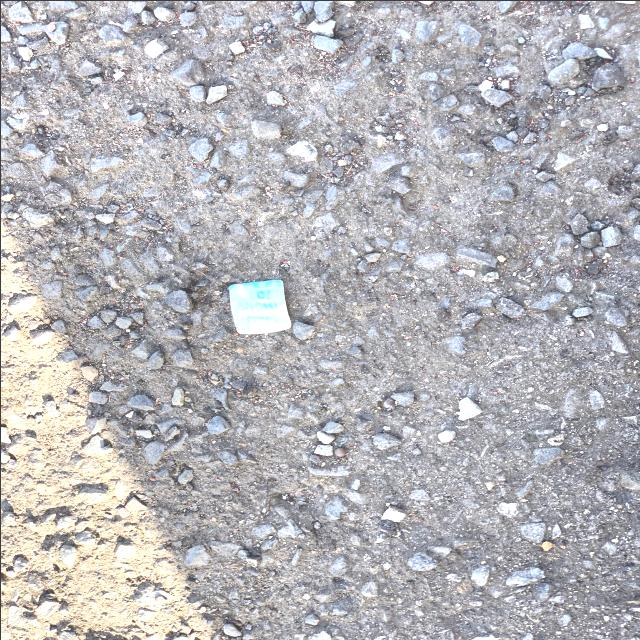Other plastic: (228, 279, 291, 333)
